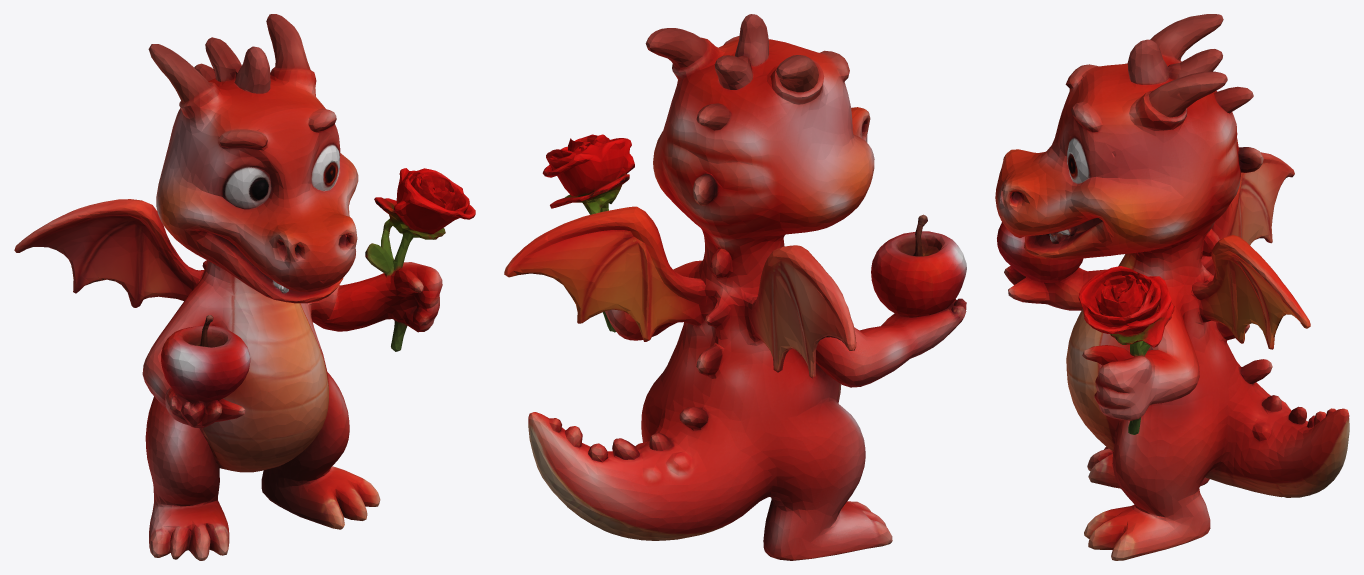
File: rojo.glb
3 views of the same model, side by side, from view 1: azimuth 30°, elevation 25°; view 2: azimuth 150°, elevation 25°; view 3: azimuth 270°, elevation 25° (orthographic). The views are drawn at different scales.
Visible parts, largest first — view 1: world; view 2: world; view 3: world.
Part boxes in pixels (bbox=[...]): world: bbox=[14, 14, 475, 560]; world: bbox=[504, 14, 966, 560]; world: bbox=[995, 14, 1349, 560].
Bounding box in the file's own units: 0.8126 × 0.9978 × 0.6796.
Materials: 1 (1 with a texture image).
